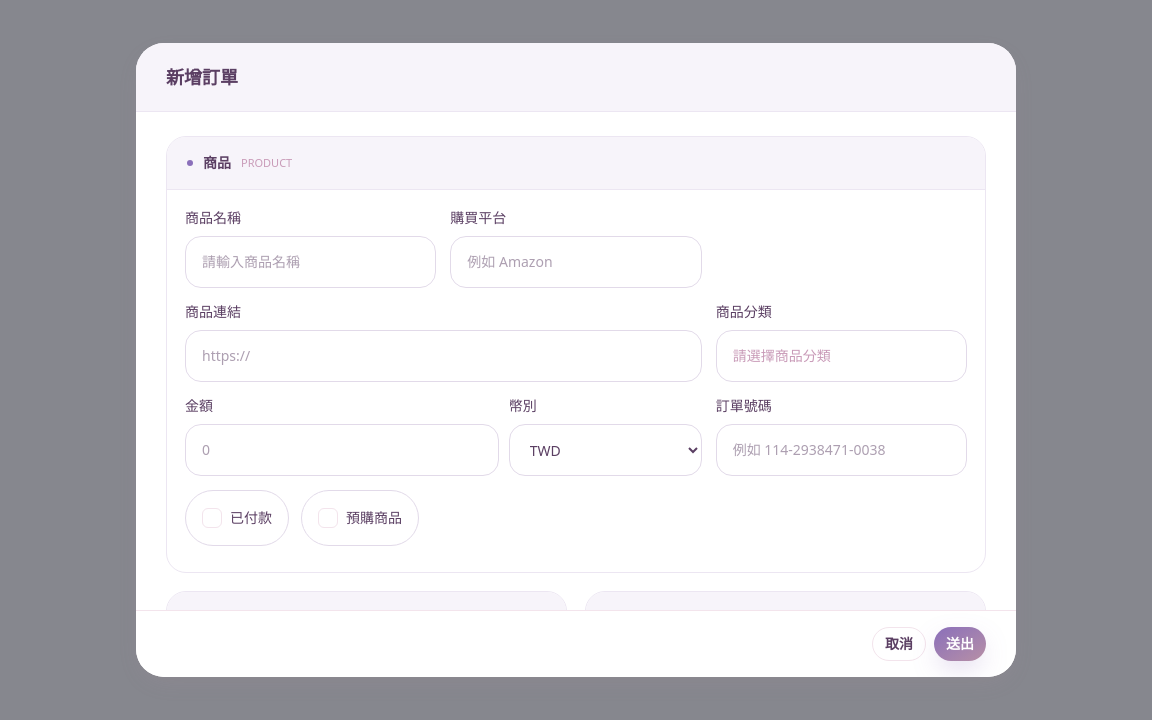
Scenario: OrderFormModal logistics fields › blocks unsafe product URLs with a field error
Type "測試商品" into the field with placeholder "請輸入商品名稱" at (311, 262), box [185,236,436,288]
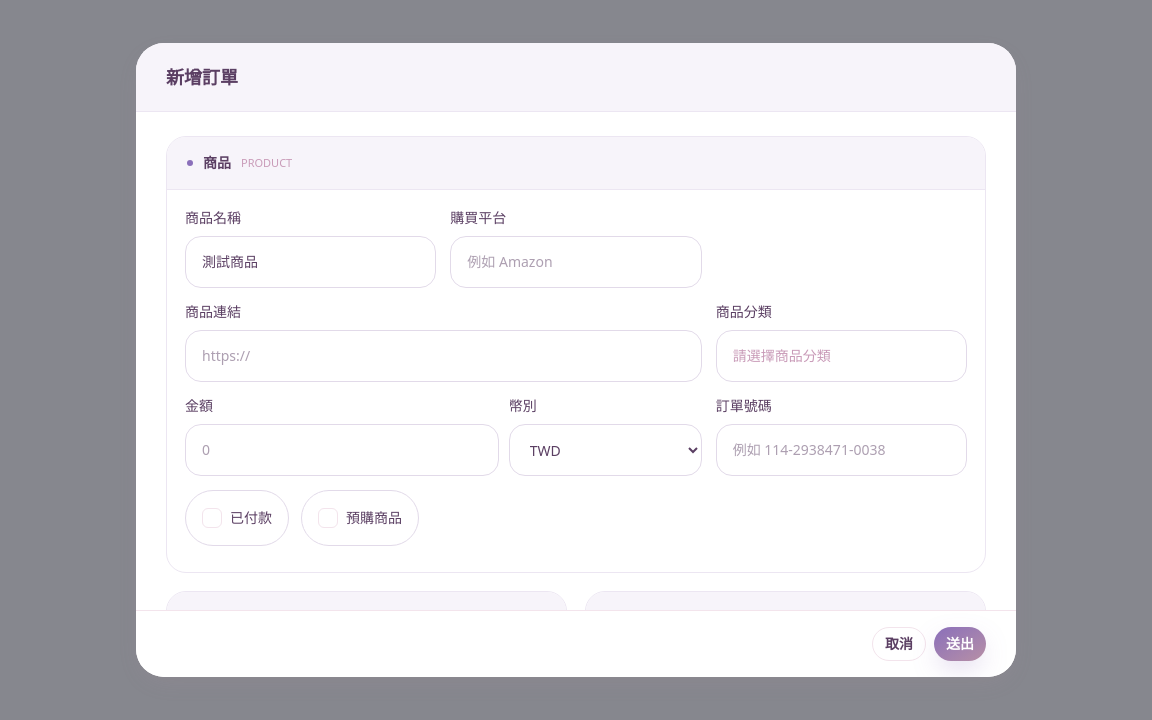
Type "100" into the field labelled "金額" at (342, 450), box [185,424,499,476]
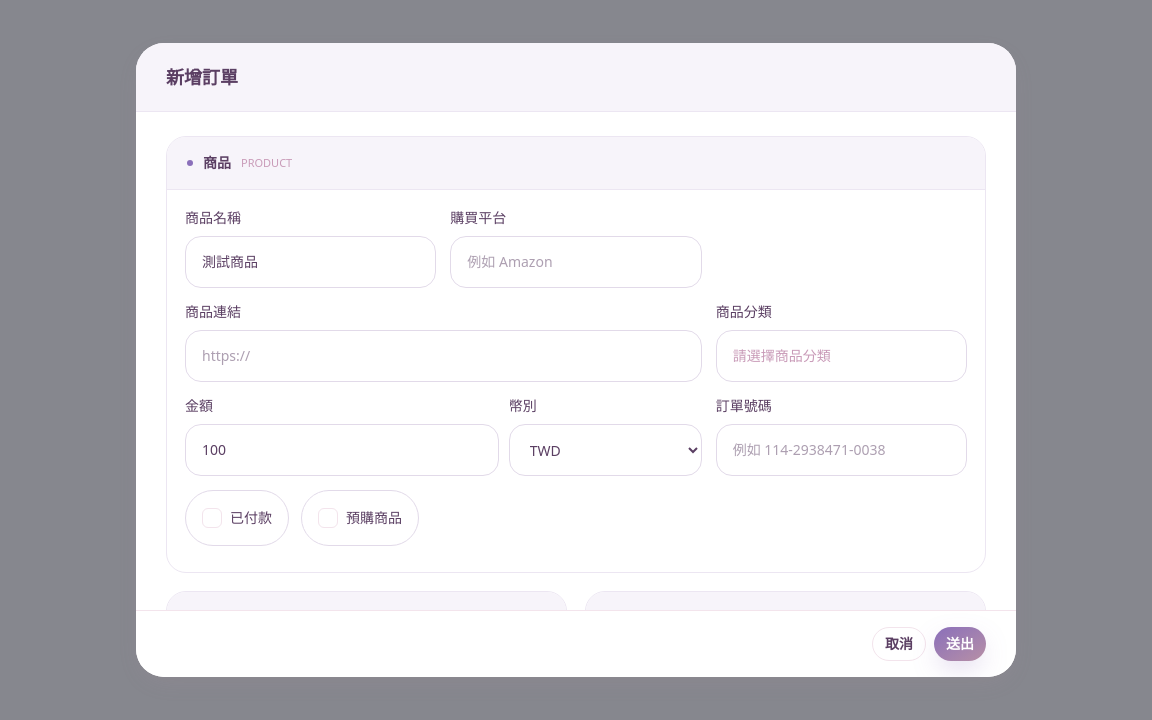
Click the button "請選擇商品分類" at (841, 356), box [716,330,967,382]
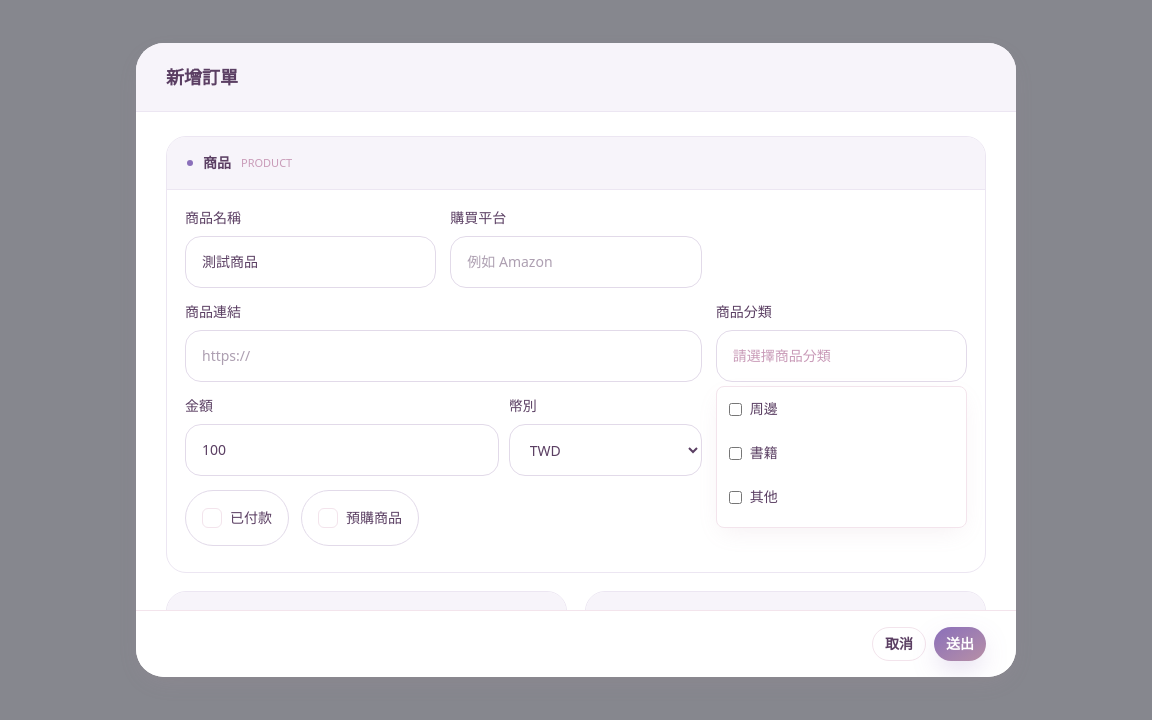
Click the checkbox labelled "書籍" at (735, 453), box [729,447,742,460]
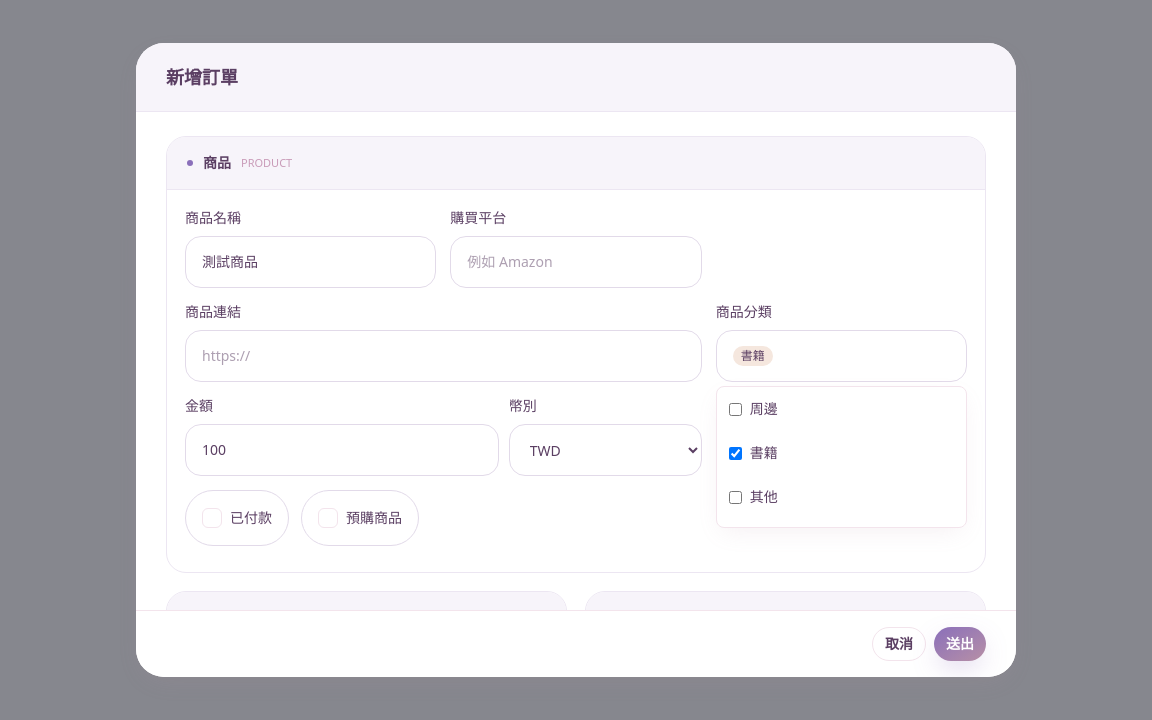
Type "javascript:alert(1)" into the field with placeholder "https://" at (443, 356), box [185,330,702,382]
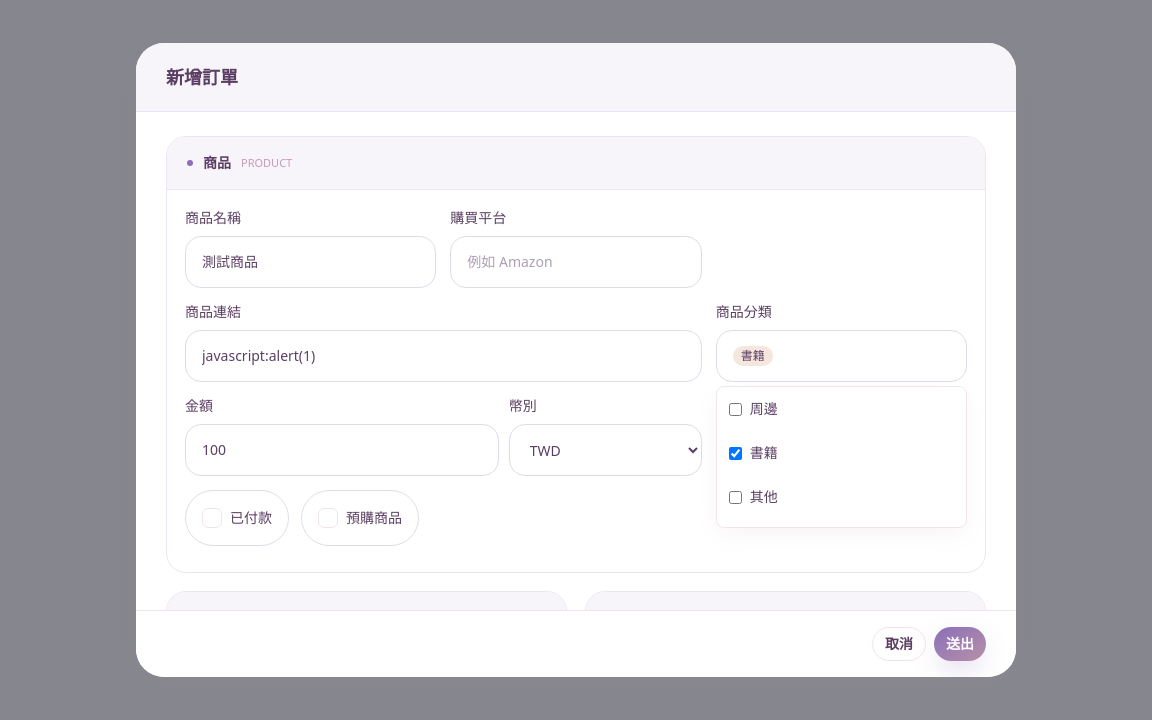
Click the button "送出" at (960, 644), box [934,627,986,661]
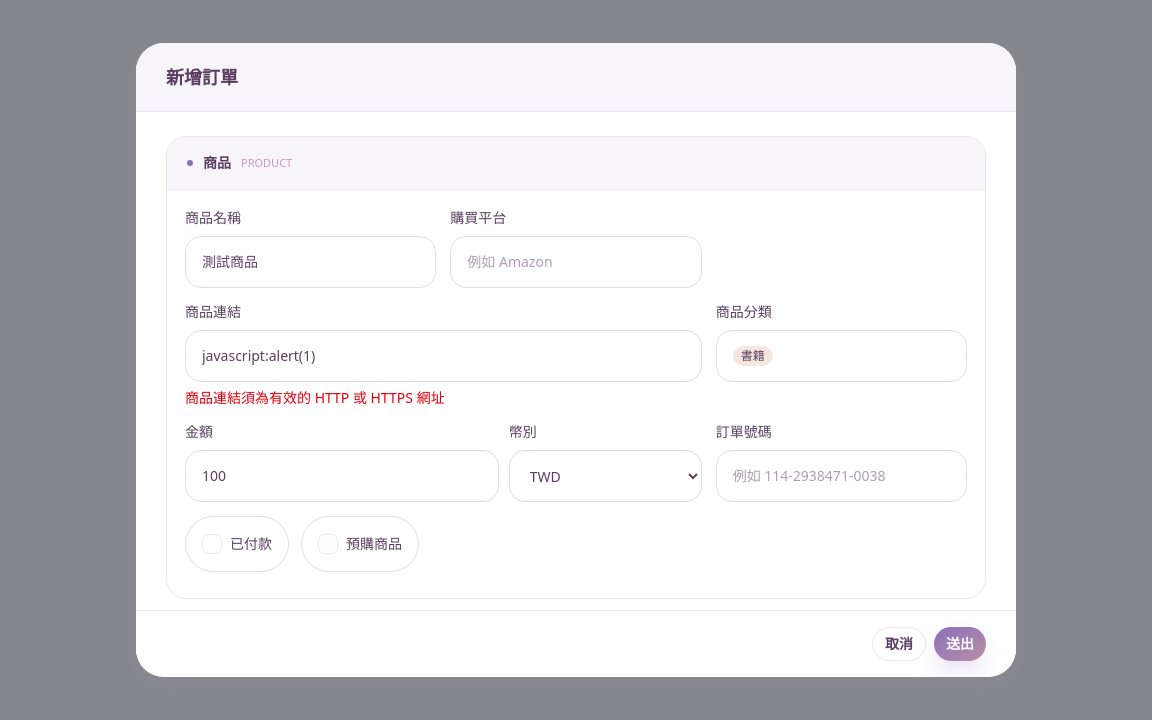
Result: the text "商品連結須為有效的 HTTP 或 HTTPS 網址" is shown at [185,388,445,407]
